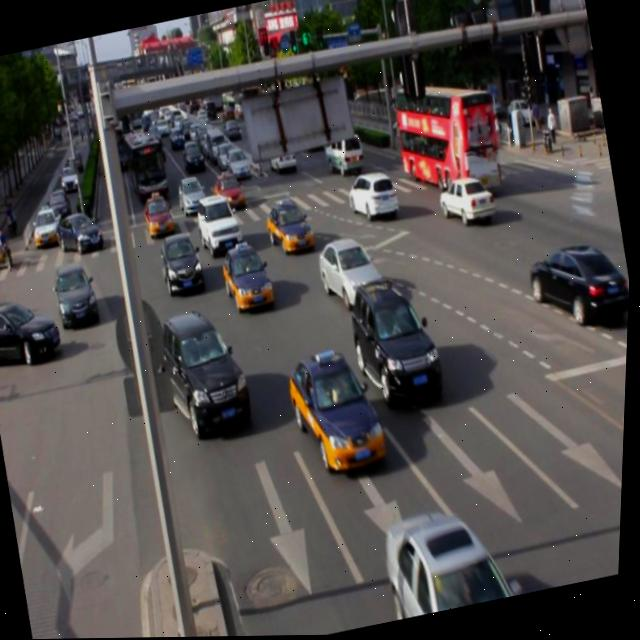car: (379, 493, 532, 622), (283, 340, 396, 480), (343, 271, 452, 416), (156, 304, 260, 443), (523, 235, 633, 338), (315, 232, 392, 317), (218, 241, 279, 317), (51, 260, 106, 333), (436, 172, 499, 231), (158, 229, 210, 299), (345, 167, 403, 225), (264, 198, 319, 258)
van: (389, 69, 507, 203)
